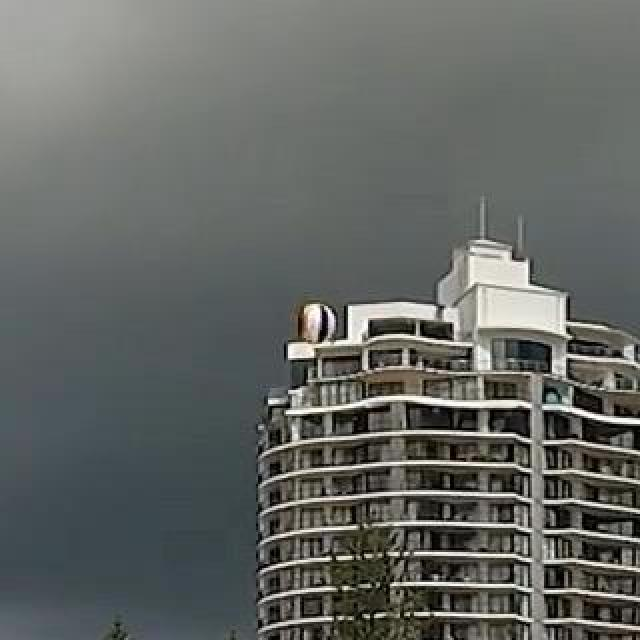volleyball: (297, 302, 335, 344)
